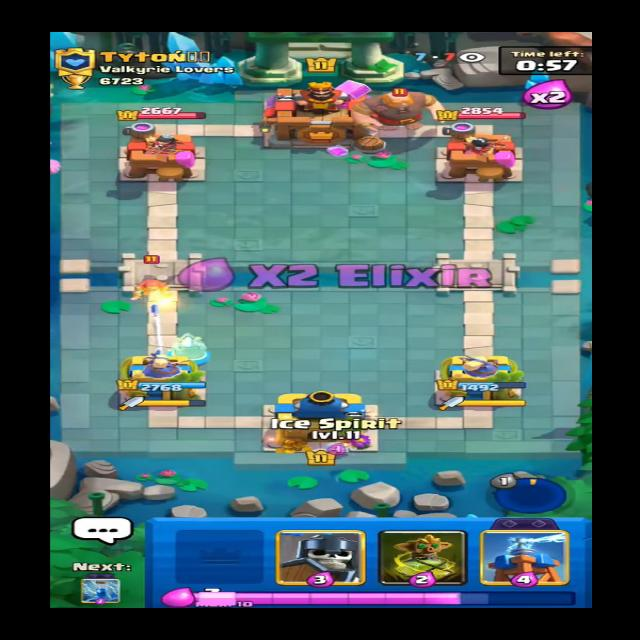giant: (343, 88, 451, 133)
wizard: (126, 260, 172, 297)
